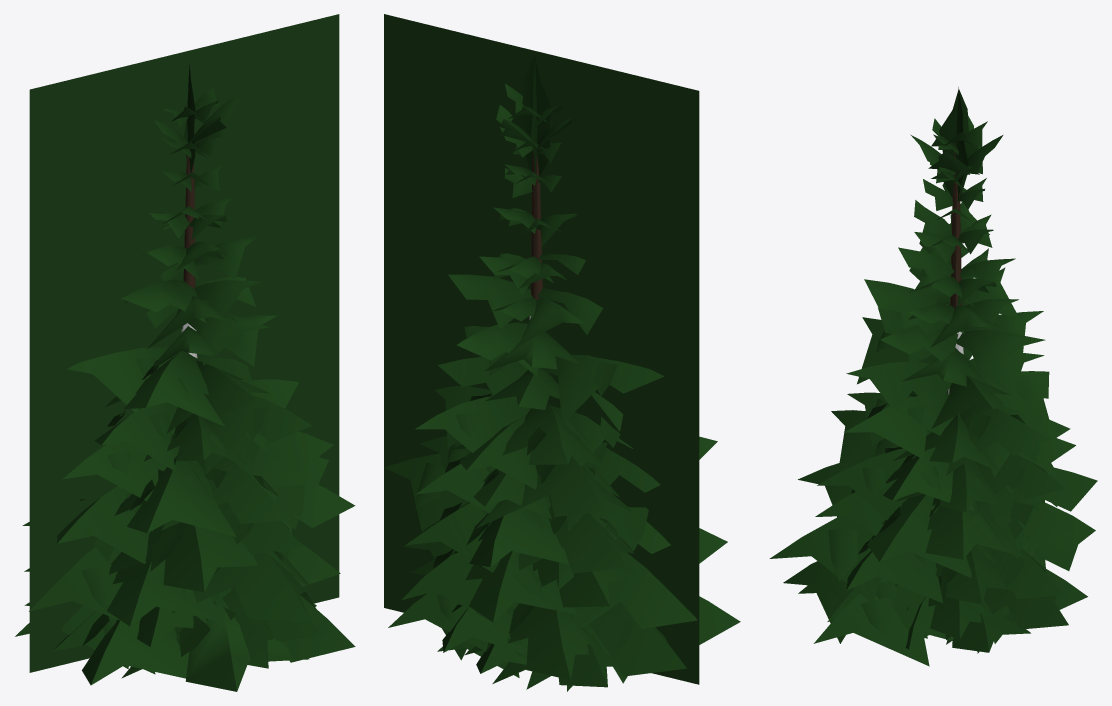
The model's file is Spruce_C.fbx.
The picture shows the model from 3 angles, left to right: view 1: azimuth 30°, elevation 25°; view 2: azimuth 150°, elevation 25°; view 3: azimuth 270°, elevation 25°; orthographic projection. The views are drawn at different scales.
Parts seen in each view (by area): view 1: Spruce_C_Billboard, Spruce_C_Foliage, Spruce_C_Trunk; view 2: Spruce_C_Billboard, Spruce_C_Foliage, Spruce_C_Trunk; view 3: Spruce_C_Foliage, Spruce_C_Trunk.
Part boxes in pixels (x1,y1,x2,y2): Spruce_C_Billboard: [29, 14, 339, 672]; Spruce_C_Foliage: [15, 63, 355, 691]; Spruce_C_Trunk: [183, 155, 195, 289]; Spruce_C_Billboard: [384, 14, 699, 684]; Spruce_C_Foliage: [384, 55, 740, 691]; Spruce_C_Trunk: [531, 52, 542, 300]; Spruce_C_Foliage: [769, 89, 1097, 666]; Spruce_C_Trunk: [950, 87, 962, 308].
Size of what is drawn, in the model's own units: 2.81 by 5.06 by 2.77.
